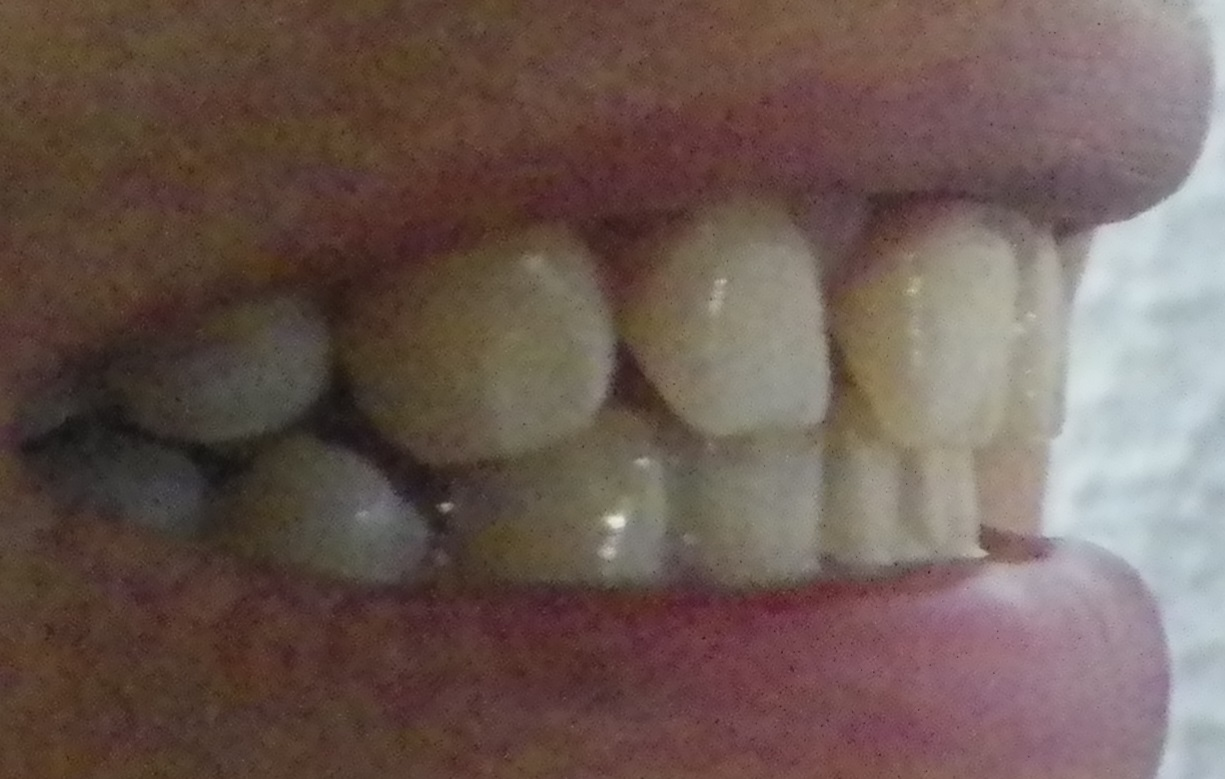boca: (61, 229, 1083, 588)
